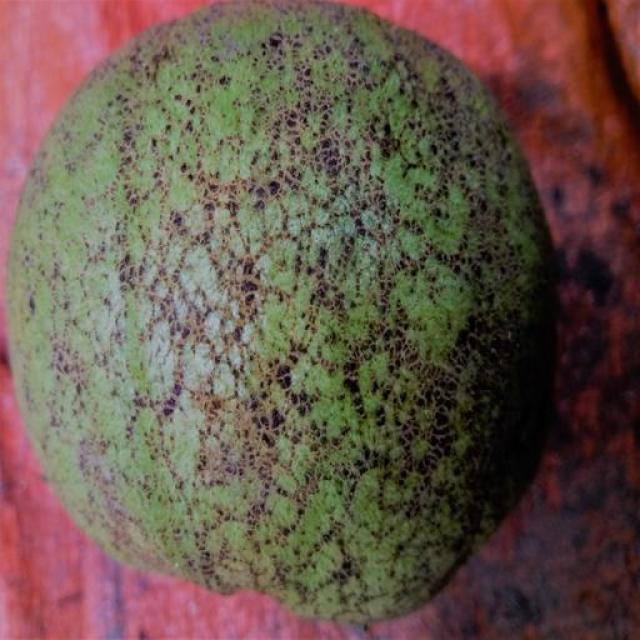Scab: (8, 0, 550, 622)
